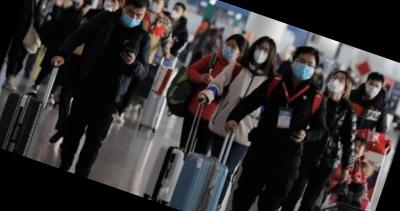with_mask: (290, 55, 319, 85), (324, 72, 349, 98), (119, 7, 145, 31), (251, 43, 272, 67), (219, 40, 240, 63), (364, 81, 383, 99), (169, 6, 183, 20)
without_mask: (349, 142, 366, 161)
